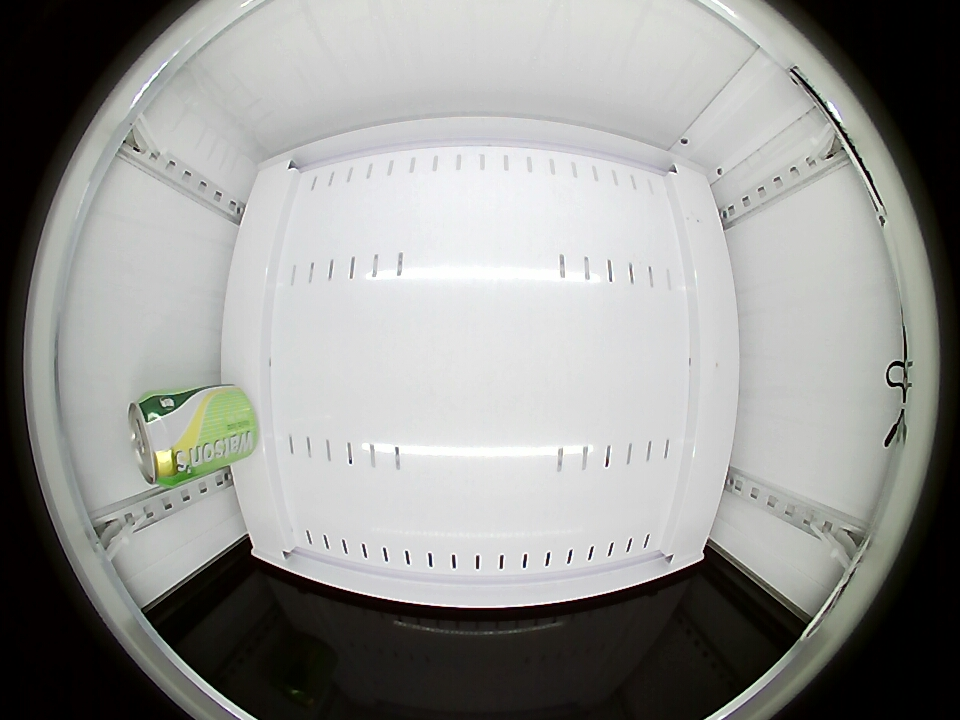quchenshixiangcao: (128, 394, 184, 487)
